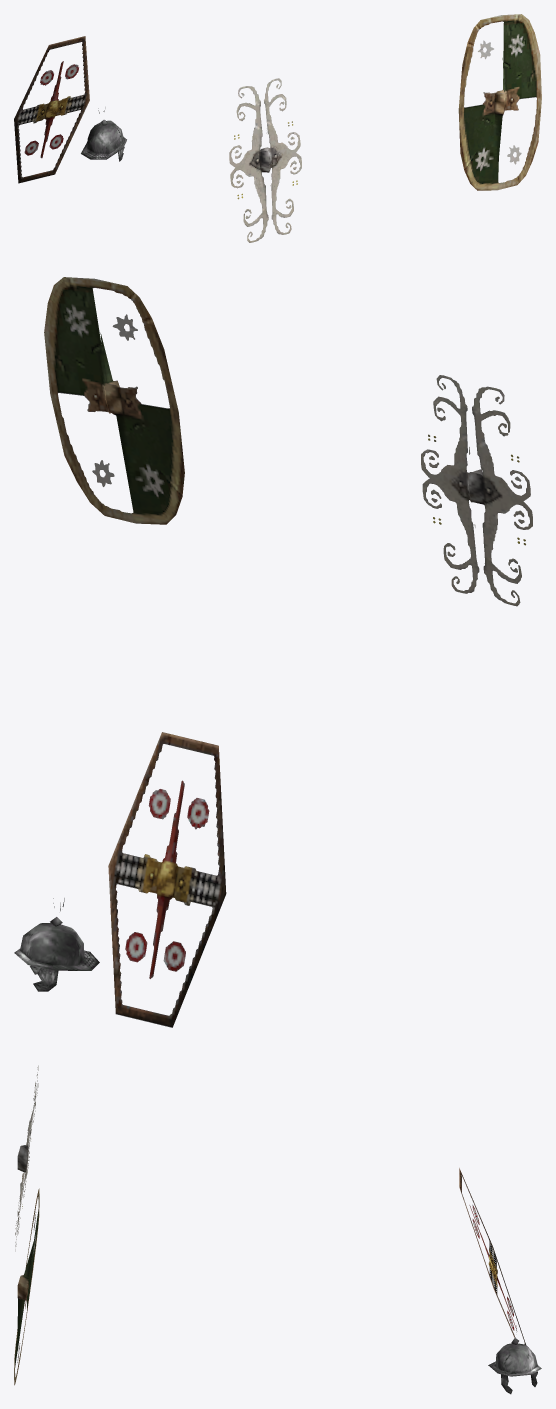
The model's file is celt_outpost2_shields.dae.
3 renders of one model, top to bottom at view 1: azimuth 30°, elevation 25°; view 2: azimuth 150°, elevation 25°; view 3: azimuth 270°, elevation 25°, orthographic. The views are drawn at different scales.
Parts seen in each view (by area): view 1: celt_coolus_feathers02; view 2: celt_coolus_feathers02; view 3: celt_coolus_feathers02.
Boxes of the visible parts, x1,y1,x2,y2 form: celt_coolus_feathers02: (14,14,541,242); celt_coolus_feathers02: (14,277,532,1027); celt_coolus_feathers02: (14,1065,541,1394).
Bounding box in the file's own units: 5.46 × 4.24 × 6.87.
